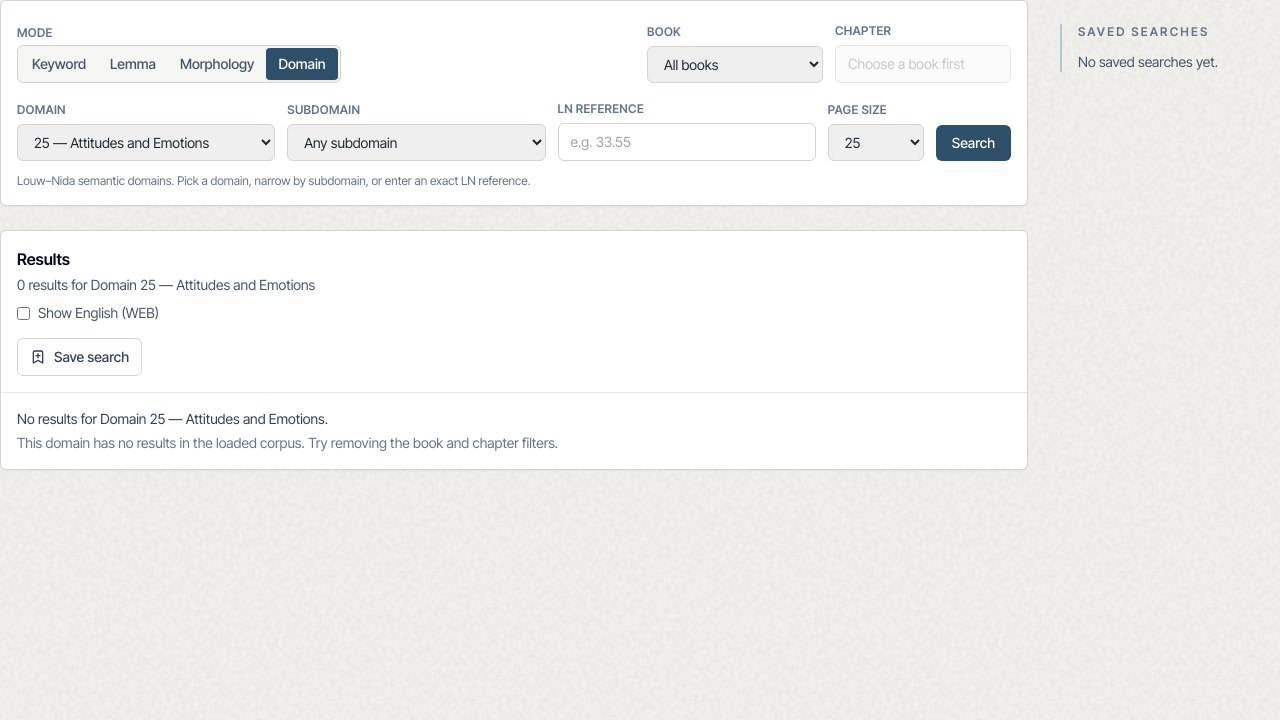
Test: SearchPanel domain save › saves an executed domain search with its filter fields and a friendly label
This screenshot has width=1280, height=720.
Click the button "Save search" at [80, 356], box [17,338,142,376]
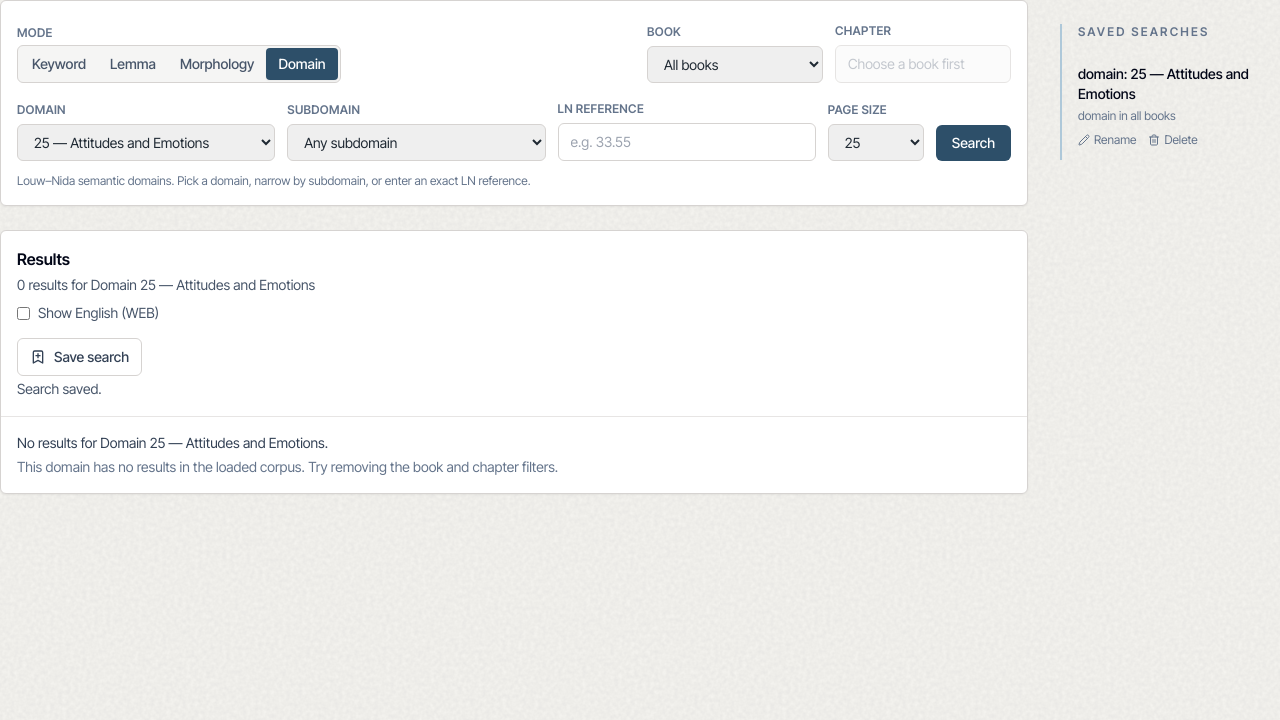
Check: the text "Search saved." is shown, box [17,380,102,396]
Check: the text "domain: 25 — Attitudes and Emotions" is shown, box [1078,65,1249,102]
